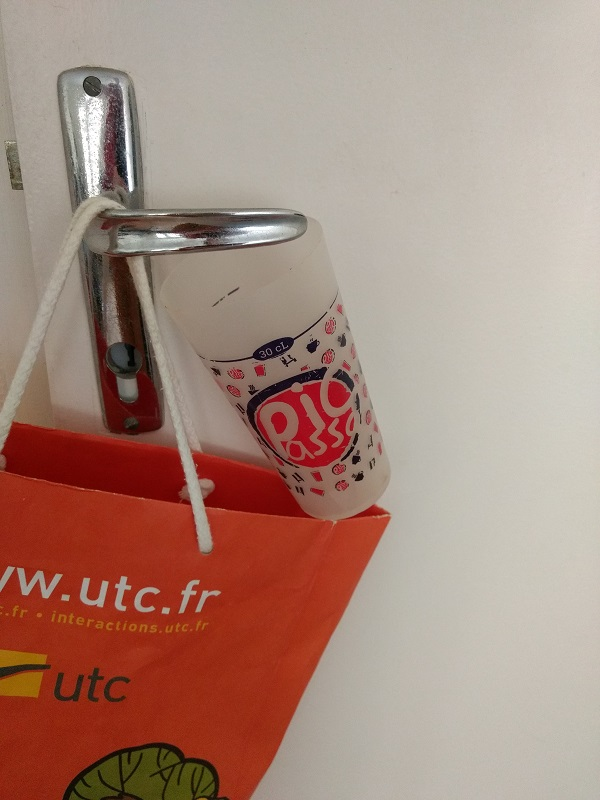ecocup: (154, 209, 394, 518)
